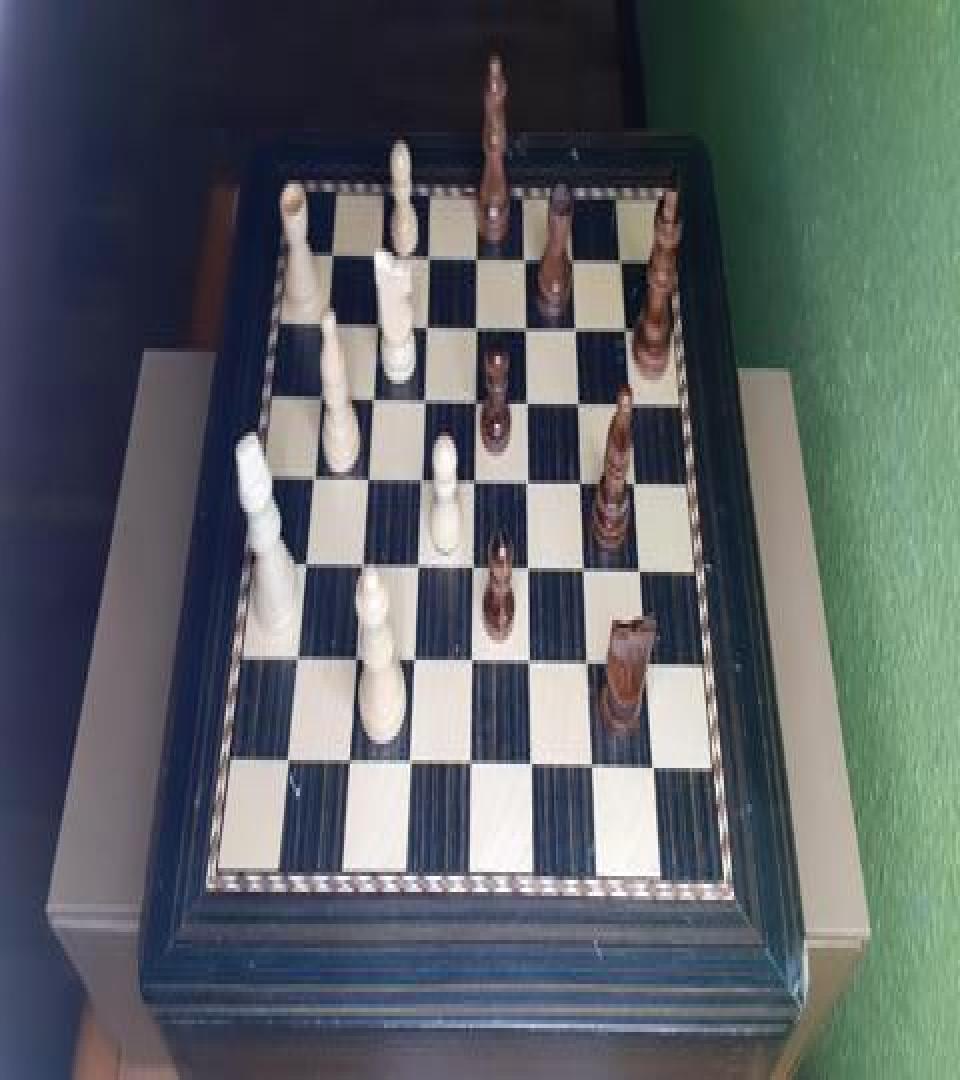xcorner: (617, 250, 631, 278), (569, 248, 583, 276), (520, 248, 534, 276), (471, 246, 485, 274), (422, 246, 436, 274), (374, 246, 388, 274), (325, 244, 339, 272), (621, 320, 635, 348), (571, 318, 585, 346), (521, 318, 535, 346), (470, 318, 484, 346), (420, 316, 434, 344), (369, 316, 383, 344), (319, 314, 333, 342), (626, 394, 640, 422), (574, 394, 588, 422), (522, 394, 536, 422), (470, 392, 484, 420), (417, 392, 431, 420), (365, 392, 379, 420), (313, 390, 327, 418), (631, 476, 645, 504), (577, 476, 591, 504), (523, 474, 537, 502), (469, 474, 483, 502), (415, 472, 429, 500), (360, 472, 374, 500), (306, 472, 320, 500), (637, 562, 651, 590), (580, 562, 594, 590), (524, 562, 538, 590), (468, 560, 482, 588), (412, 560, 426, 588), (355, 560, 369, 588), (298, 558, 312, 586), (642, 658, 656, 686), (584, 656, 598, 684), (526, 656, 540, 684), (467, 656, 481, 684), (408, 654, 422, 682), (350, 654, 364, 682), (291, 654, 305, 682), (649, 760, 663, 788), (588, 758, 602, 786), (527, 758, 541, 786), (466, 758, 480, 786), (405, 758, 419, 786), (344, 756, 358, 784), (282, 756, 296, 784)
